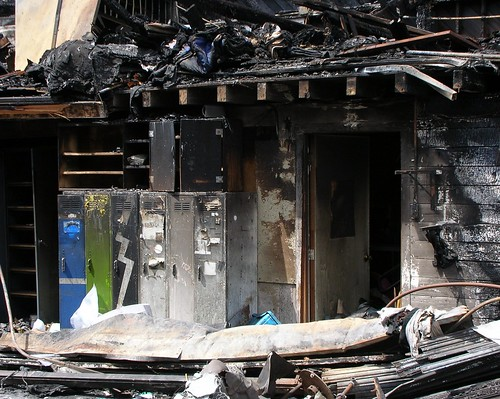building: (17, 8, 500, 399)
door: (304, 123, 399, 332)
